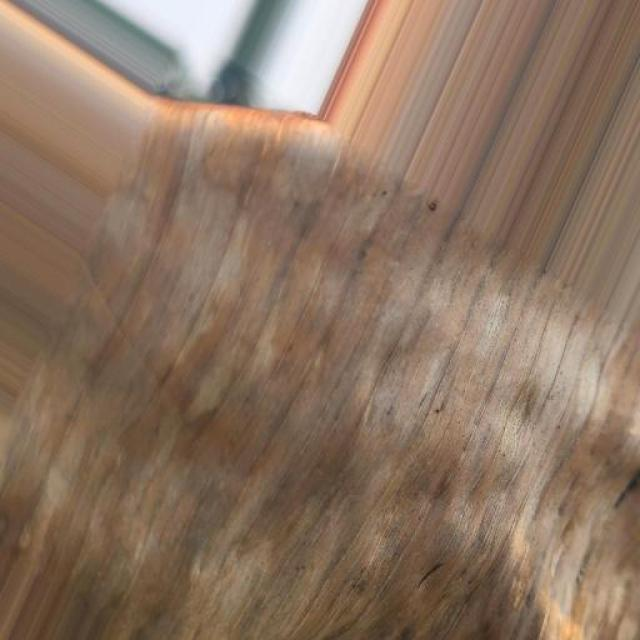Bract_mosaic_virus: (6, 1, 640, 640)
